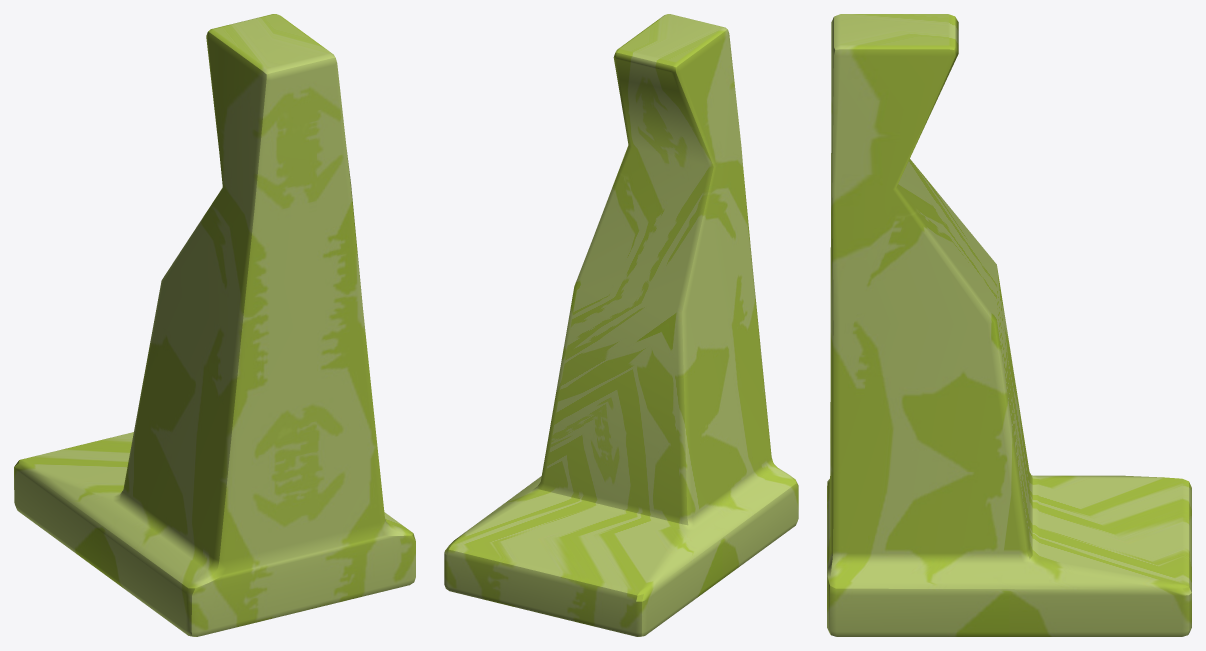
Rendered from book saport.fbx.
3 views of the same model, side by side, from view 1: azimuth 30°, elevation 25°; view 2: azimuth 150°, elevation 25°; view 3: azimuth 270°, elevation 25° (orthographic). The views are drawn at different scales.
Parts seen in each view (by area): view 1: pCube2; view 2: pCube2; view 3: pCube2.
Boxes of the visible parts, x1,y1,x2,y2 form: pCube2: (14, 14, 415, 636); pCube2: (444, 14, 798, 636); pCube2: (827, 14, 1191, 636).
Bounding box in the file's own units: 1.33 × 3.06 × 1.82.
